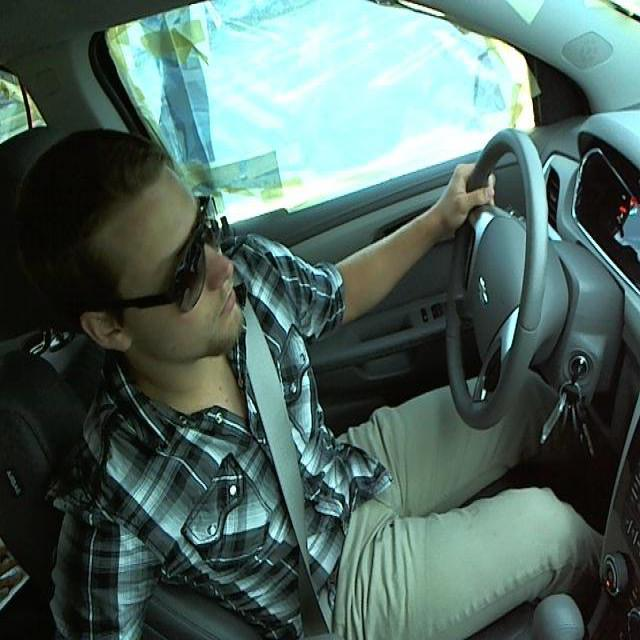seatbelt: (234, 324, 361, 639)
